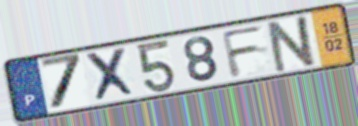5: (133, 38, 177, 94)
7: (39, 52, 85, 113)
8: (182, 35, 222, 84)
F: (218, 23, 267, 81)
N: (266, 12, 320, 75)
X: (82, 45, 140, 104)
